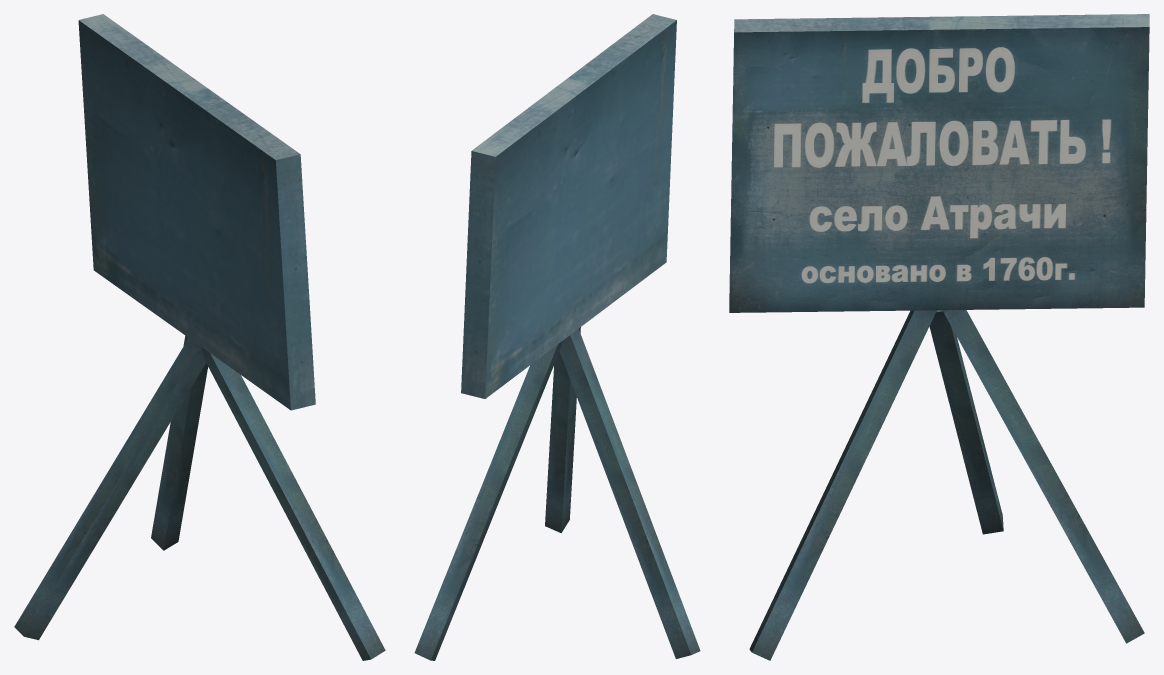
The model's file is r402_atrachy_stela.FBX.
3 views of the same model, side by side, from view 1: azimuth 30°, elevation 25°; view 2: azimuth 150°, elevation 25°; view 3: azimuth 270°, elevation 25° (orthographic). The views are drawn at different scales.
Parts seen in each view (by area): view 1: r402_atrachy_stela; view 2: r402_atrachy_stela; view 3: r402_atrachy_stela.
Part boxes in pixels (x1,y1,x2,y2): r402_atrachy_stela: (14,14,385,660); r402_atrachy_stela: (414,14,700,660); r402_atrachy_stela: (729,14,1149,660).
Size of the model in its own units: 157 by 205 by 316.
